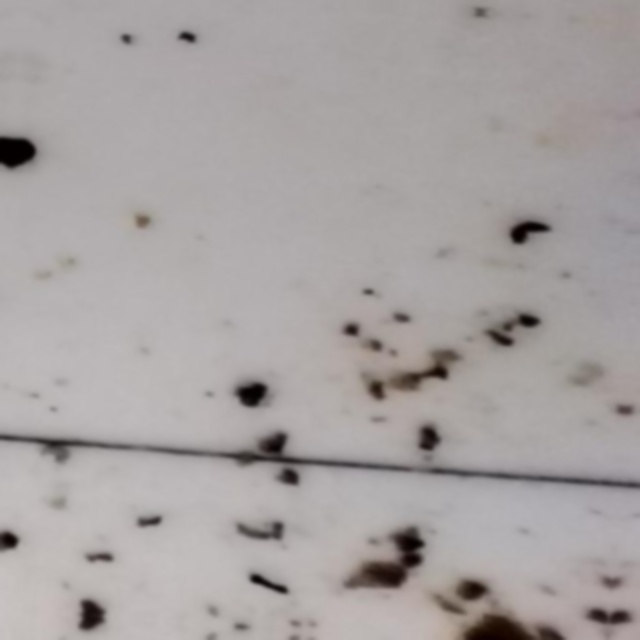varroa: (10, 135, 40, 175)
